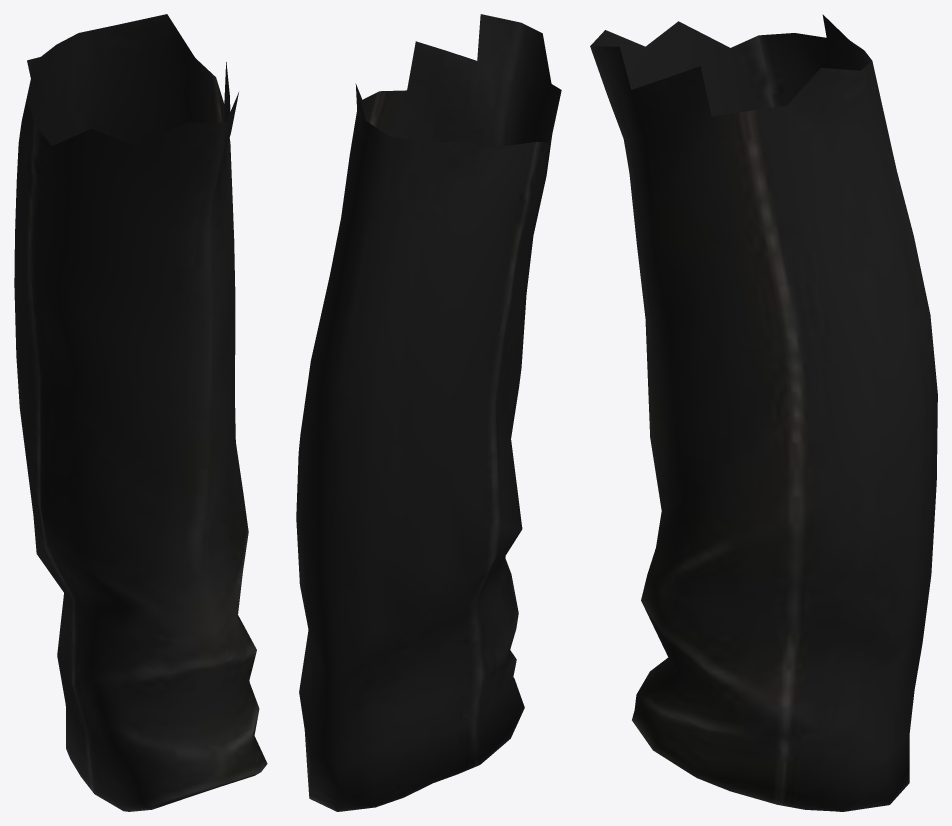
The model's file is panto_izq.obj.
3 renders of one model, left to right at view 1: azimuth 30°, elevation 25°; view 2: azimuth 150°, elevation 25°; view 3: azimuth 270°, elevation 25°, orthographic. The views are drawn at different scales.
Parts seen in each view (by area): view 1: node_id797.002; view 2: node_id797.002; view 3: node_id797.002.
Part boxes in pixels (<box>): node_id797.002: <box>14,14,267,811</box>; node_id797.002: <box>296,14,561,811</box>; node_id797.002: <box>590,14,937,811</box>.
Size of the model in its own units: 0.1402 by 0.4686 by 0.2.
Materials: 1 (1 with a texture image).
